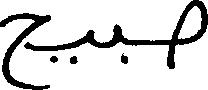X: (0, 8, 48, 89), (172, 0, 207, 73), (113, 19, 121, 66), (87, 25, 93, 50)
